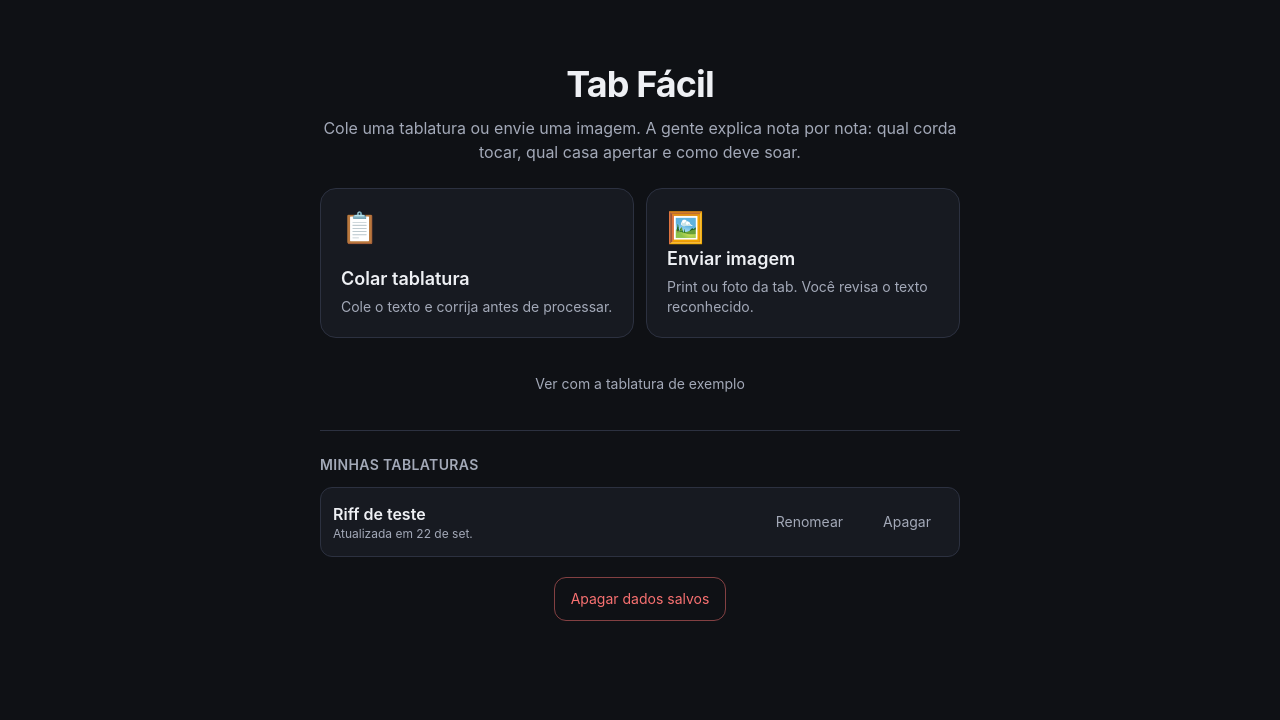
Test: fluxo principal › lista, renomeia e reabre tabs da biblioteca
This screenshot has width=1280, height=720.
Expected: the heading "Minhas tablaturas" is shown, [320,456,479,473]
Step 1. Click the button named "Renomear Riff de teste" → (809, 522), box [760,500,859,544]
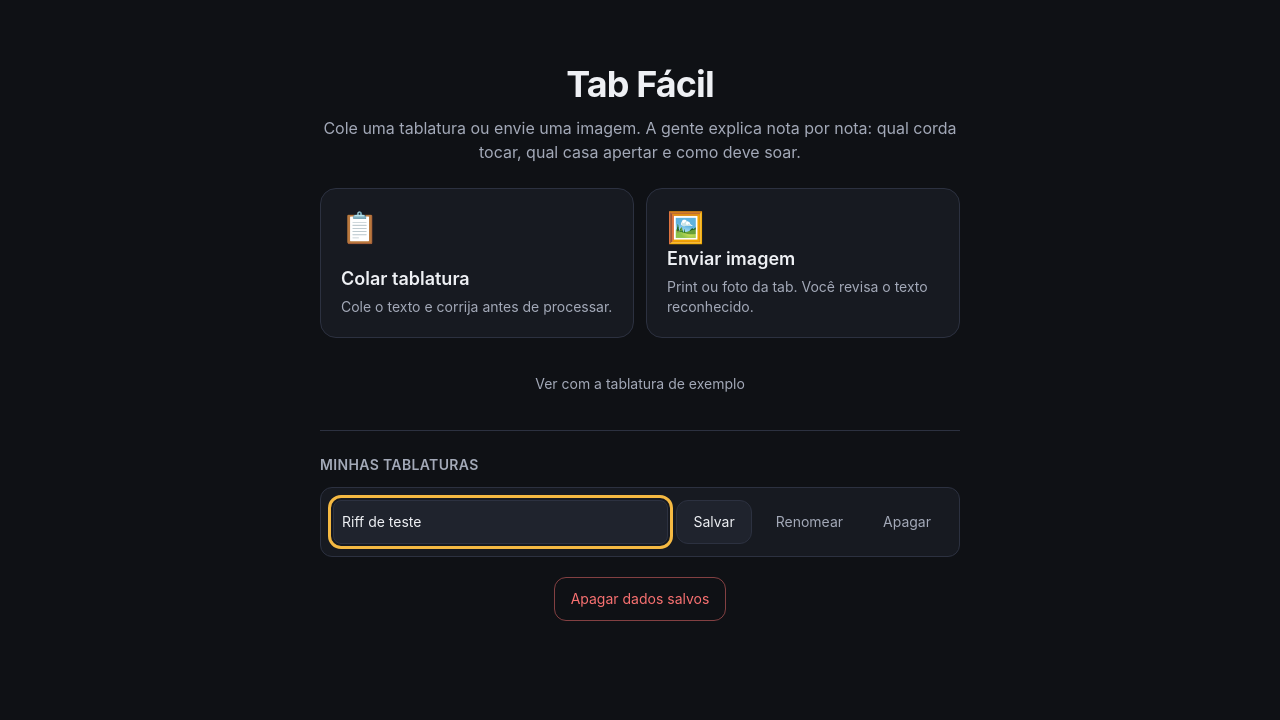
Step 2. Replace the text in the field named "Nome da tablatura" with "Intro" → (501, 522), box [333,500,668,544]
Then press Enter
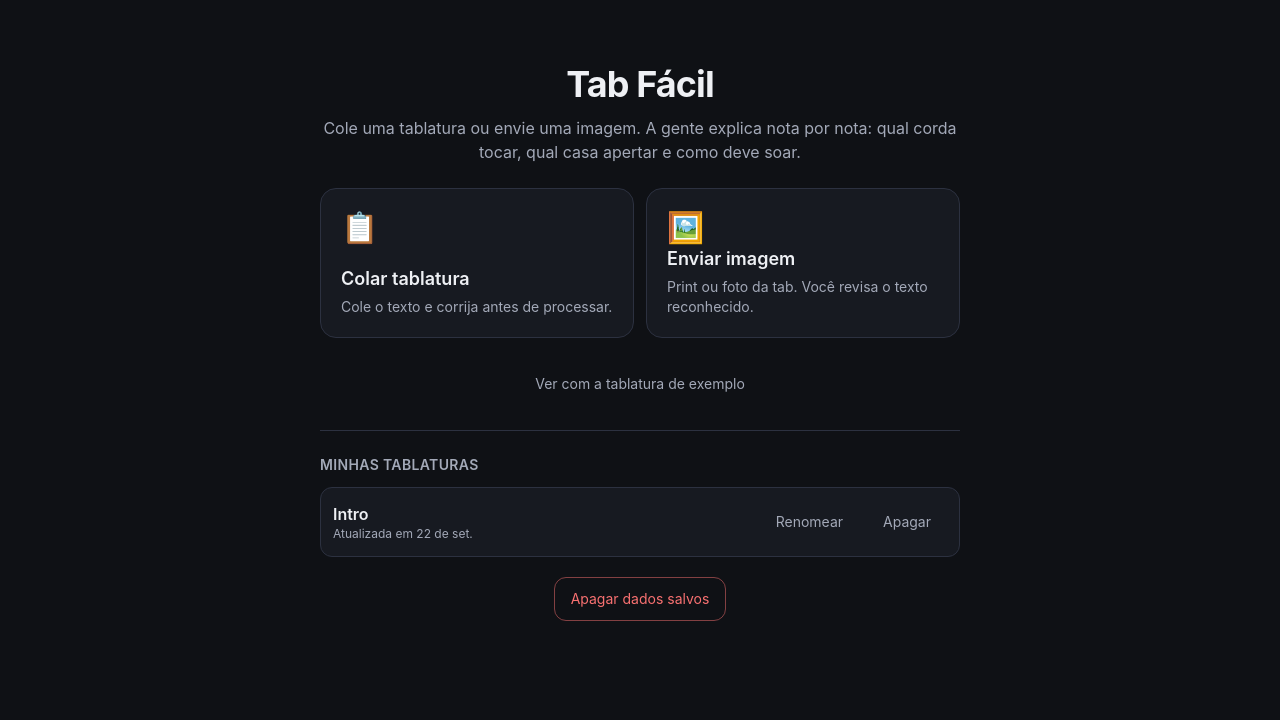
Step 3. Click the button "Intro Atualizada em 22 de set." → (351, 514), box [333,502,752,542]
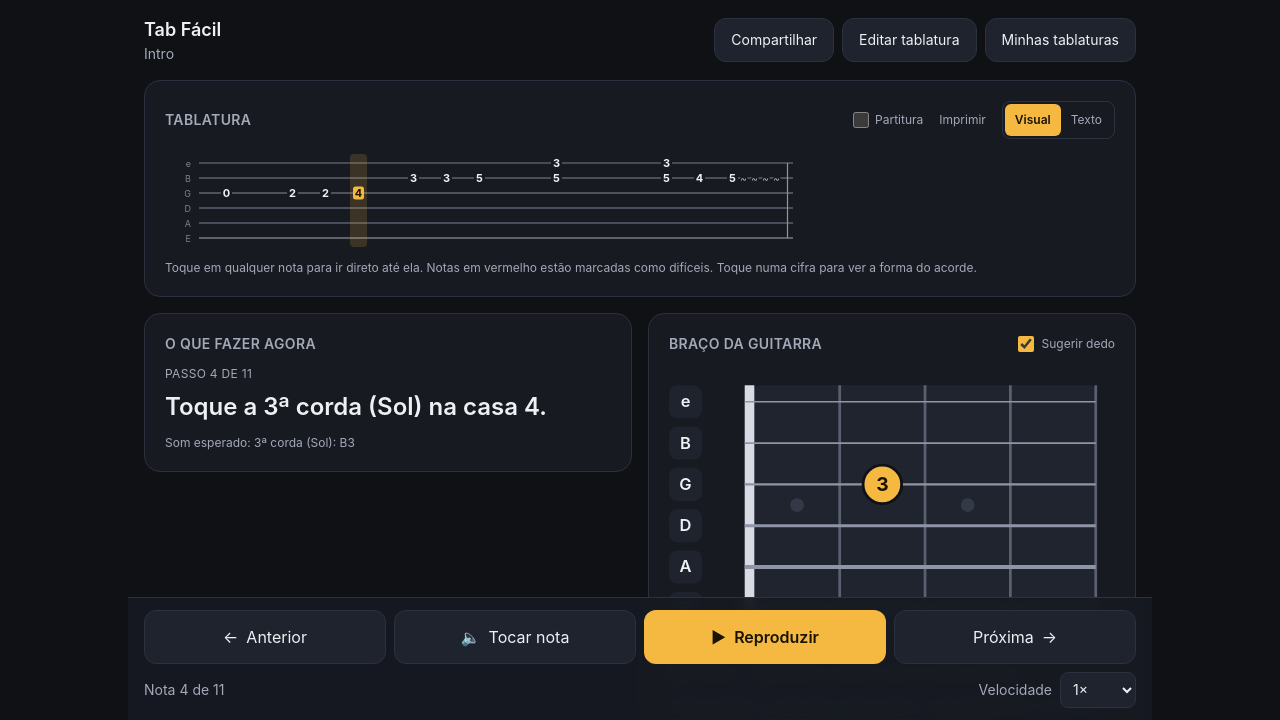
Now the text "Intro" is shown, box [144,45,174,62]
Now the text "Passo 4 de 11" is shown, box [165,366,252,382]
